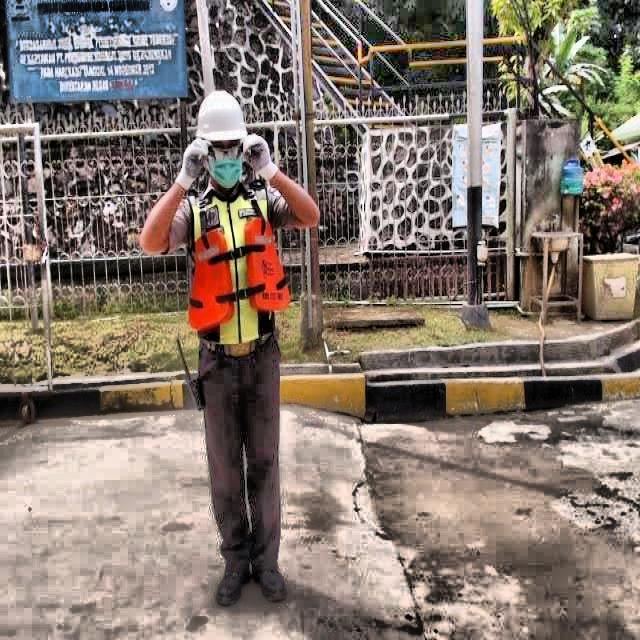safety_helmet: (191, 85, 249, 153)
safety_jacket: (183, 182, 295, 350)
